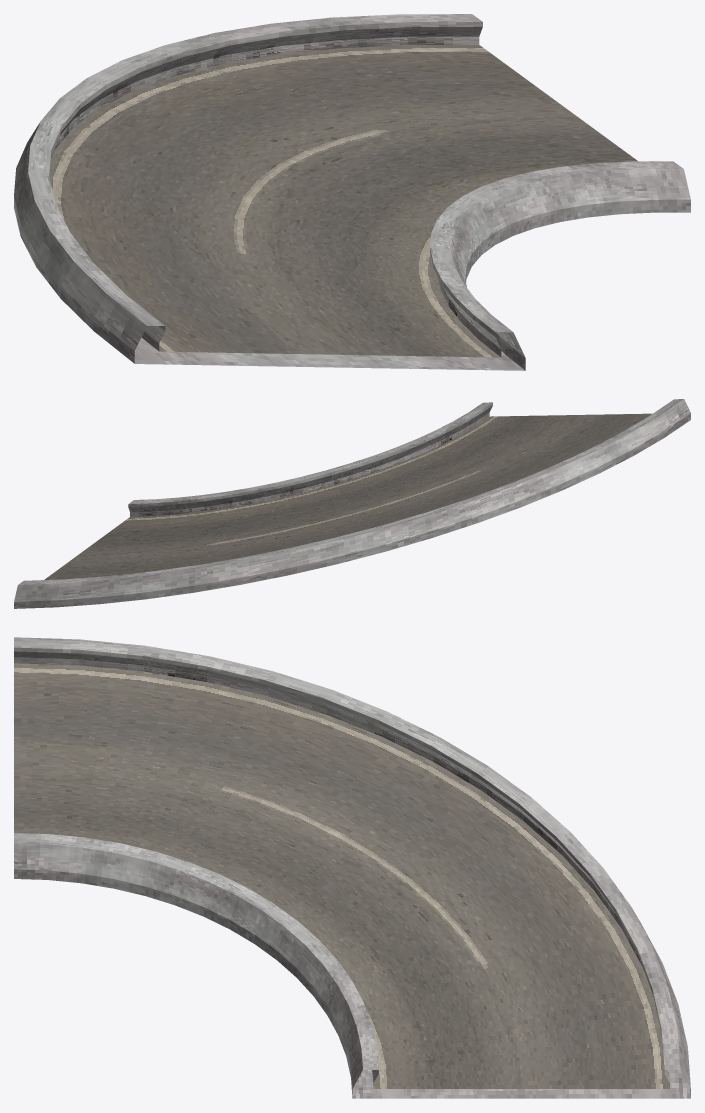
The model's file is road-Turn-HalfBankedRight-BiSlopeDown-Down1-Right-Size2.glb.
3 renders of one model, top to bottom at view 1: azimuth 30°, elevation 25°; view 2: azimuth 150°, elevation 25°; view 3: azimuth 270°, elevation 25°, orthographic. The views are drawn at different scales.
Visible parts, largest first — view 1: road-Turn-HalfBankedRight-BiSlopeDown-Down1-Right-Size2; view 2: road-Turn-HalfBankedRight-BiSlopeDown-Down1-Right-Size2; view 3: road-Turn-HalfBankedRight-BiSlopeDown-Down1-Right-Size2.
Part boxes in pixels (x1,y1,x2,y2): road-Turn-HalfBankedRight-BiSlopeDown-Down1-Right-Size2: (14, 14, 690, 370); road-Turn-HalfBankedRight-BiSlopeDown-Down1-Right-Size2: (14, 399, 690, 608); road-Turn-HalfBankedRight-BiSlopeDown-Down1-Right-Size2: (14, 637, 690, 1098).
Bounding box in the file's own units: 2 × 0.5859 × 2.
Materials: 2 (2 with a texture image).
